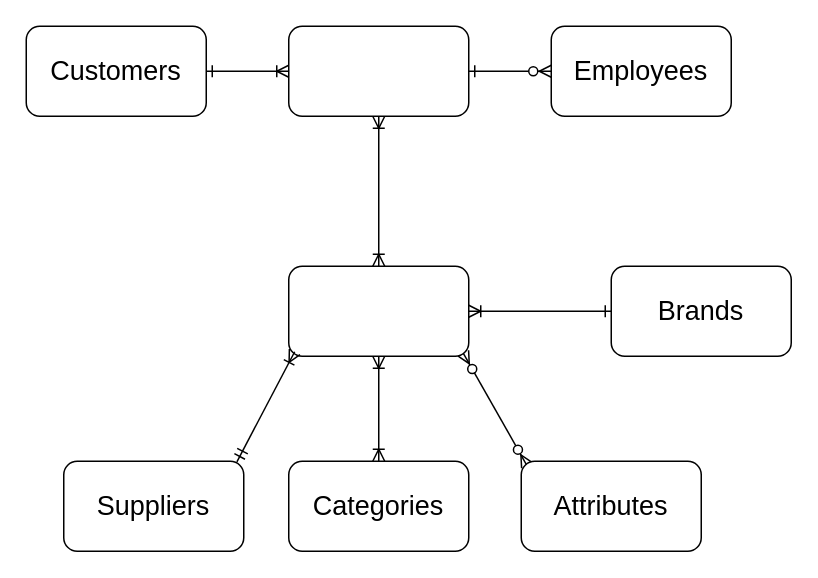
This 818x578 diagram has some shape labels left out. Here are the shapes that lost their labels. From the top down, the centre of each, then its label:
[378,70]: Orders
[378,310]: Products
